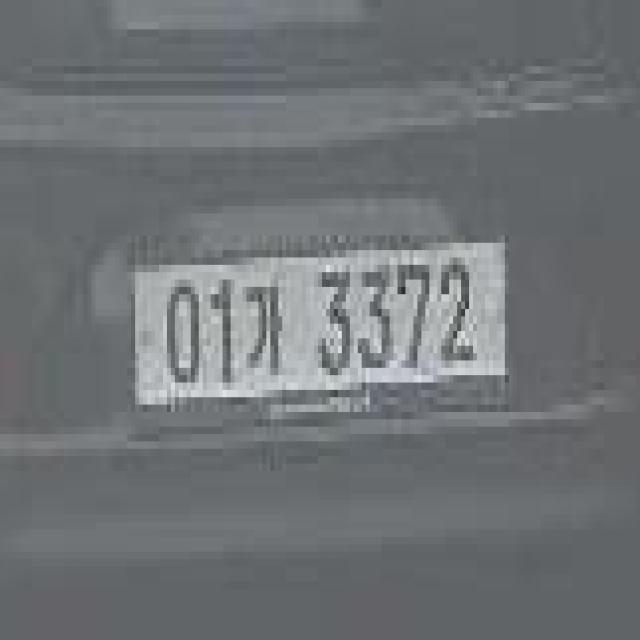illegal_plate: (131, 239, 513, 423)
